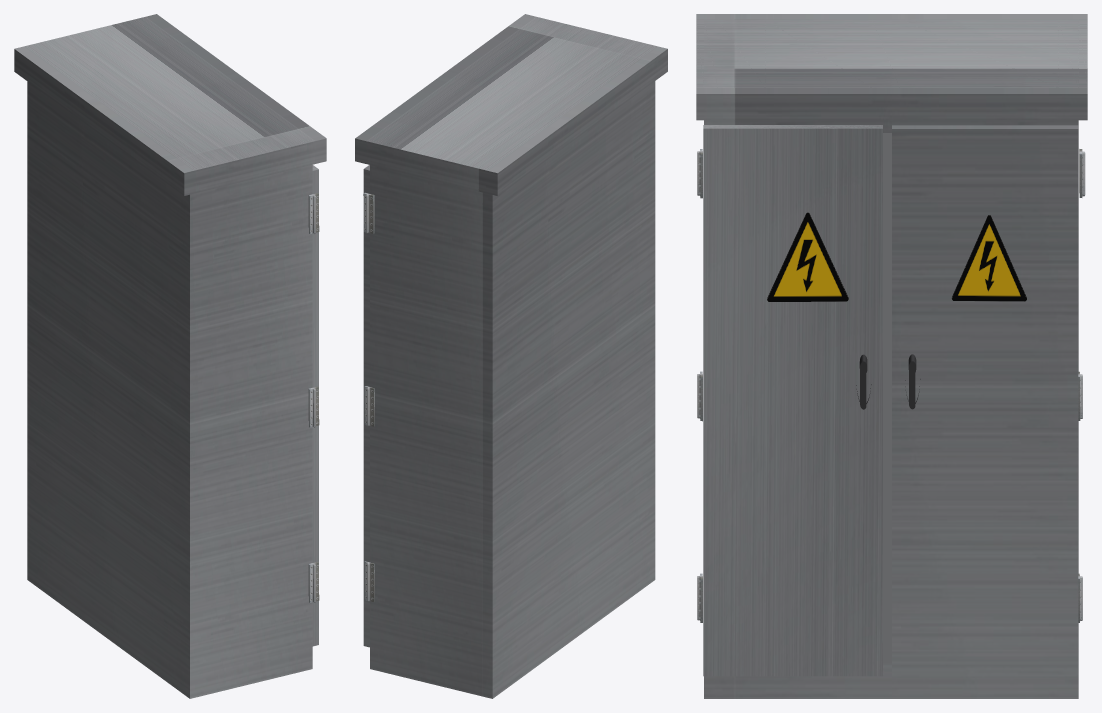
Rendered from ElecticalBox.fbx.
3 renders of one model, left to right at view 1: azimuth 30°, elevation 25°; view 2: azimuth 150°, elevation 25°; view 3: azimuth 270°, elevation 25°, orthographic. The views are drawn at different scales.
Visible parts, largest first — view 1: Cube, Cube.003; view 2: Cube, Cube.002; view 3: Cube.002, Cube.003, Cube, hazardlogotransparent, hazardlogotransparent.001.
Part boxes in pixels (x1,y1,x2,y2): Cube: (14, 14, 326, 698); Cube.003: (312, 165, 318, 646); Cube: (355, 14, 667, 698); Cube.002: (363, 165, 369, 647); Cube.002: (892, 125, 1078, 677); Cube.003: (703, 125, 882, 676); Cube: (696, 14, 1087, 698); hazardlogotransparent: (767, 212, 848, 301); hazardlogotransparent.001: (951, 215, 1026, 301).
Bounding box in the file's own units: 108 × 360 × 209.
7 materials, 7 textured.
